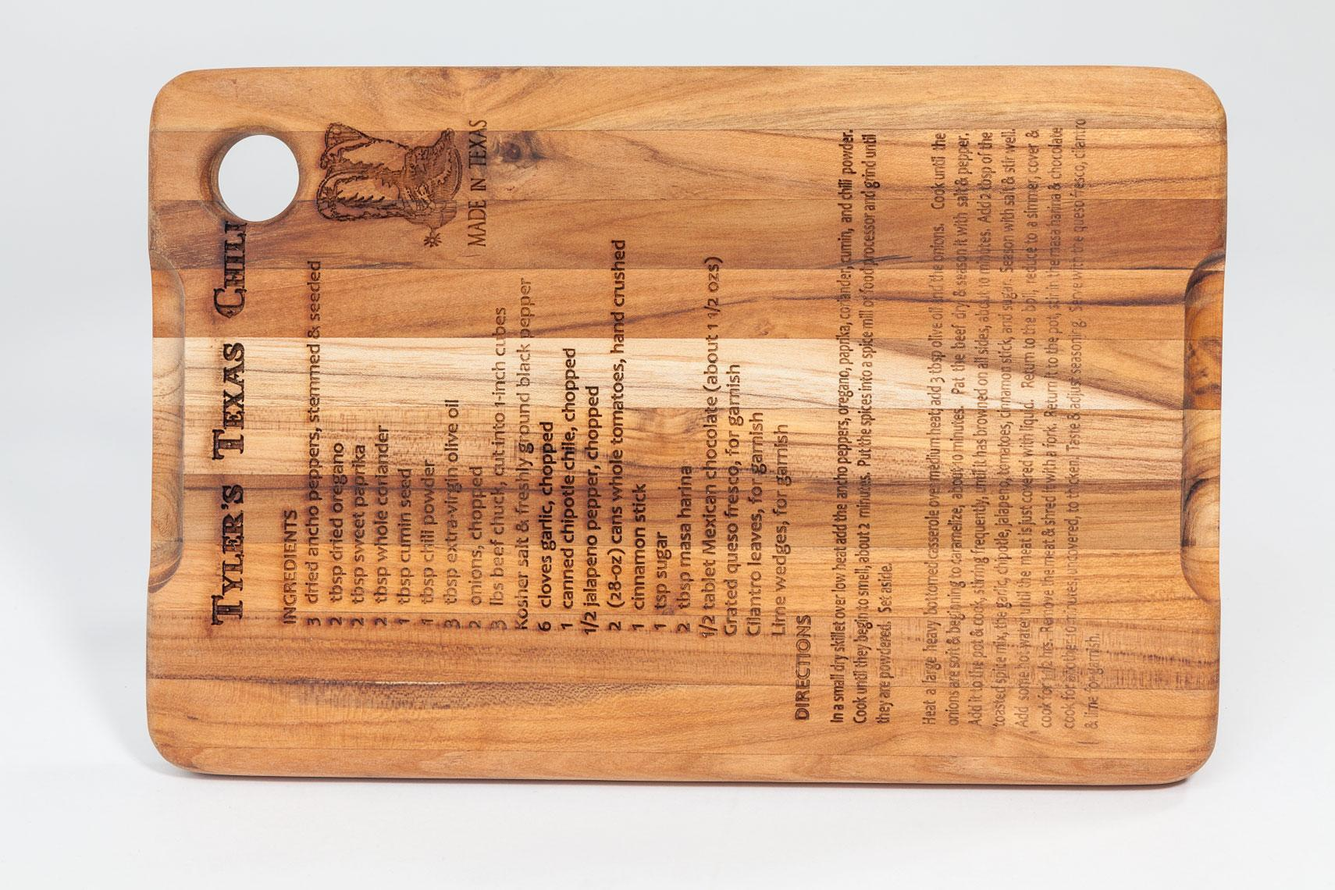gloved_hand: (133, 47, 1238, 802)
